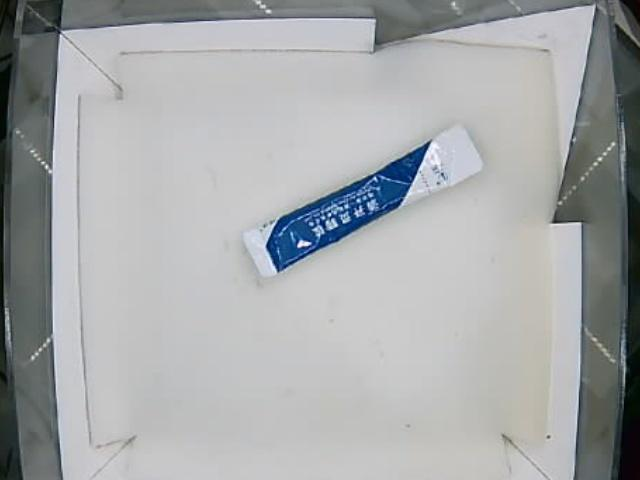Medicine: (239, 126, 485, 283)
